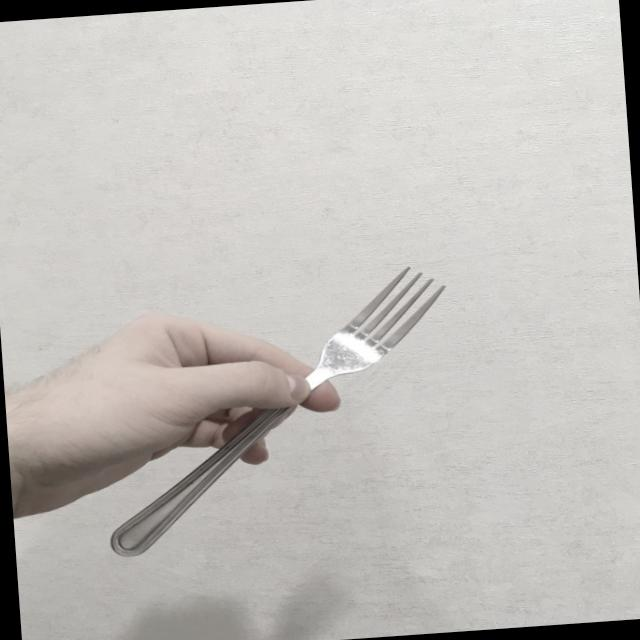fork: (91, 264, 470, 558)
